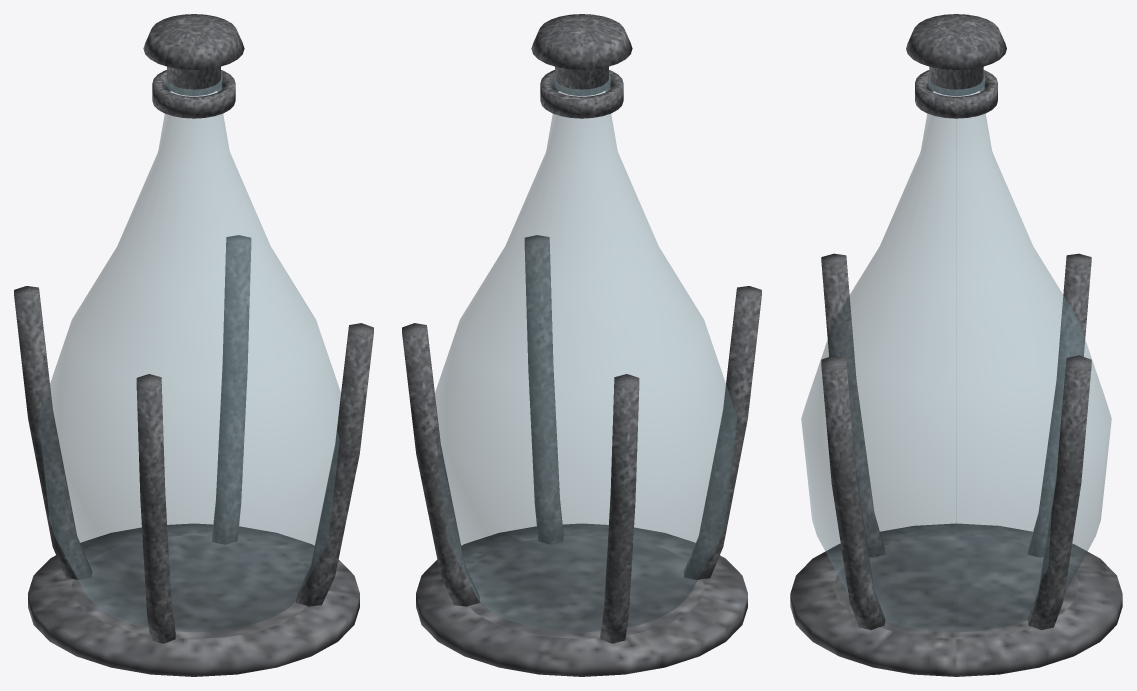
File: item_bottle30.glb
3 renders of one model, left to right at view 1: azimuth 30°, elevation 25°; view 2: azimuth 150°, elevation 25°; view 3: azimuth 270°, elevation 25°, orthographic.
Parts seen in each view (by area): view 1: bottle30_glass, bottle30_solid; view 2: bottle30_glass, bottle30_solid; view 3: bottle30_glass, bottle30_solid.
Boxes of the visible parts, x1,y1,x2,y2 form: bottle30_glass: (38, 74, 340, 632); bottle30_solid: (14, 14, 373, 676); bottle30_glass: (435, 74, 737, 632); bottle30_solid: (402, 14, 761, 676); bottle30_glass: (801, 75, 1111, 632); bottle30_solid: (790, 14, 1122, 676).
Bounding box in the file's own units: 1 × 1.96 × 1.
Materials: 2 (1 with a texture image).
